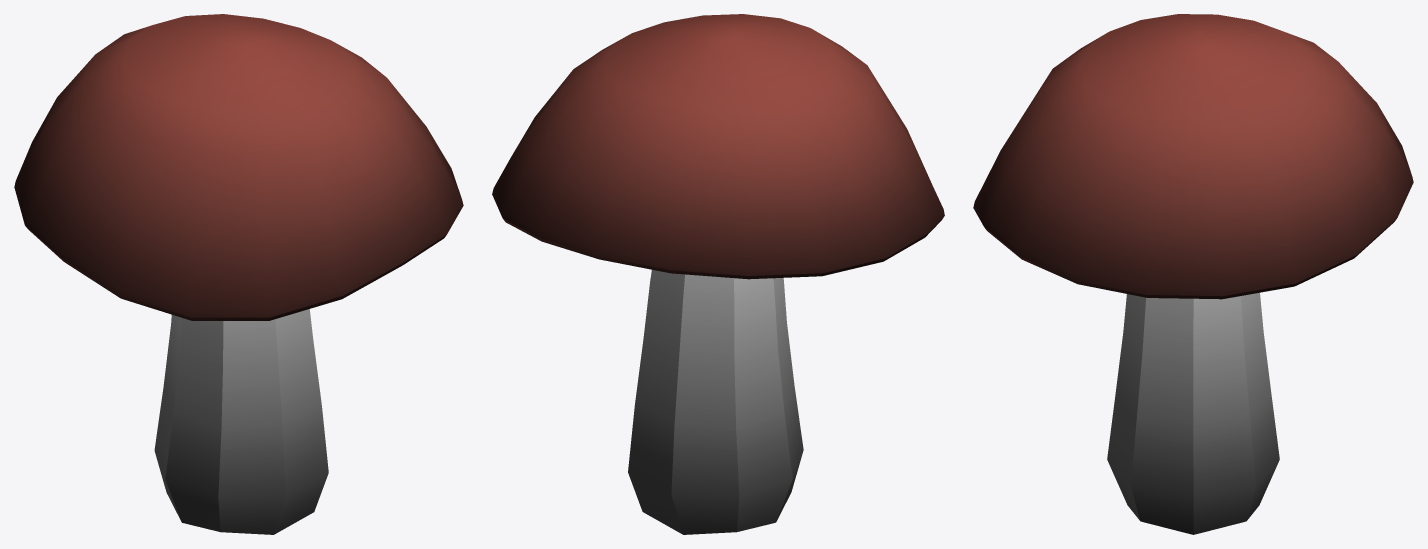
File: mushroom3.fbx
3 views of the same model, side by side, from view 1: azimuth 30°, elevation 25°; view 2: azimuth 150°, elevation 25°; view 3: azimuth 270°, elevation 25° (orthographic). The views are drawn at different scales.
Visible parts, largest first — view 1: mushroom11; view 2: mushroom11; view 3: mushroom11.
Part boxes in pixels (x1,y1,x2,y2): mushroom11: [14, 14, 463, 534]; mushroom11: [492, 14, 944, 534]; mushroom11: [973, 14, 1413, 534].
Size of the model in its own units: 74.38 by 90.31 by 75.01.
